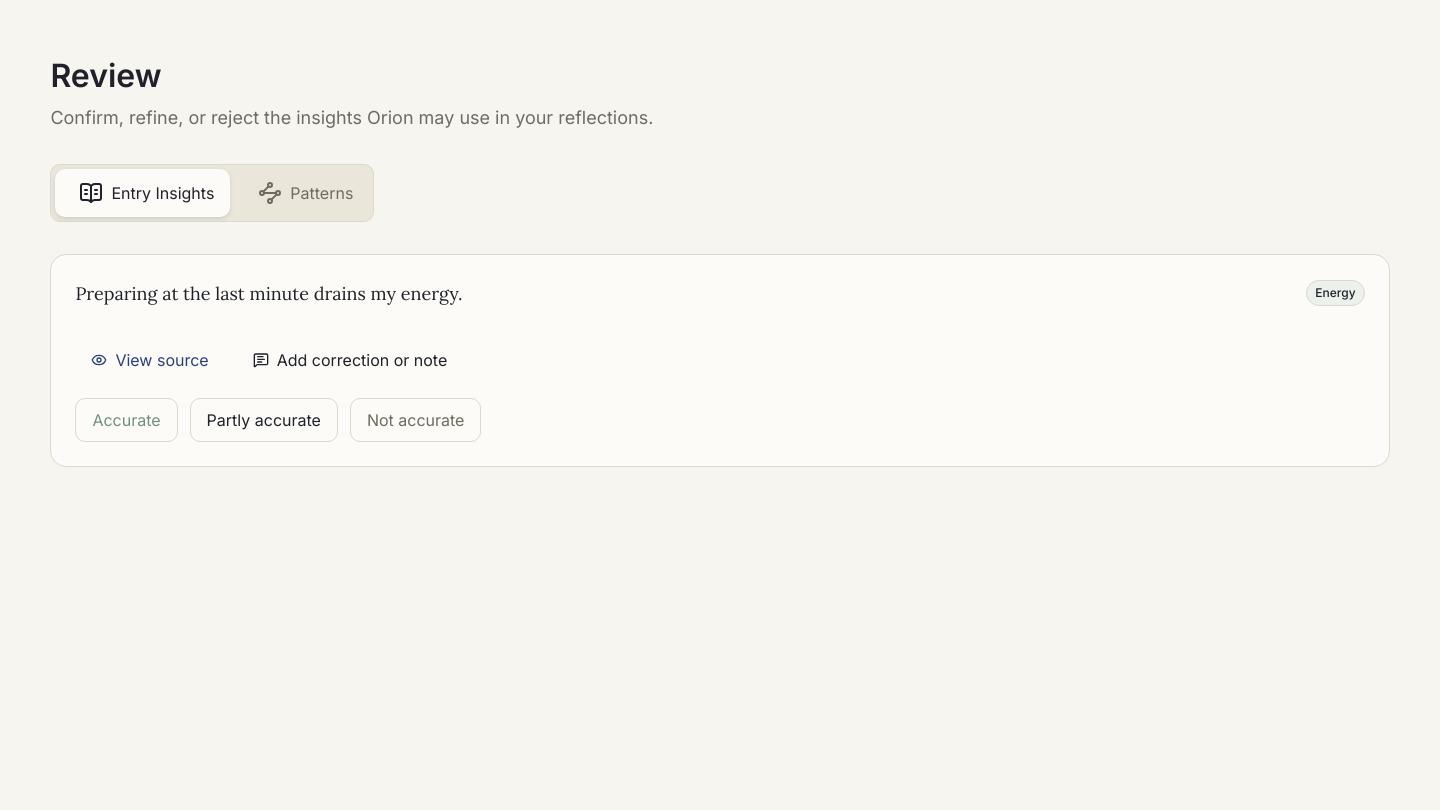
ReviewScreen › shows only the central loader while feedback refreshes the queue
The image size is (1440, 810).
Check: the text "Preparing at the last minute drains my energy." is shown, box [75, 282, 462, 305]
Click the button "Accurate".
click(126, 420)  # box [75, 398, 178, 442]
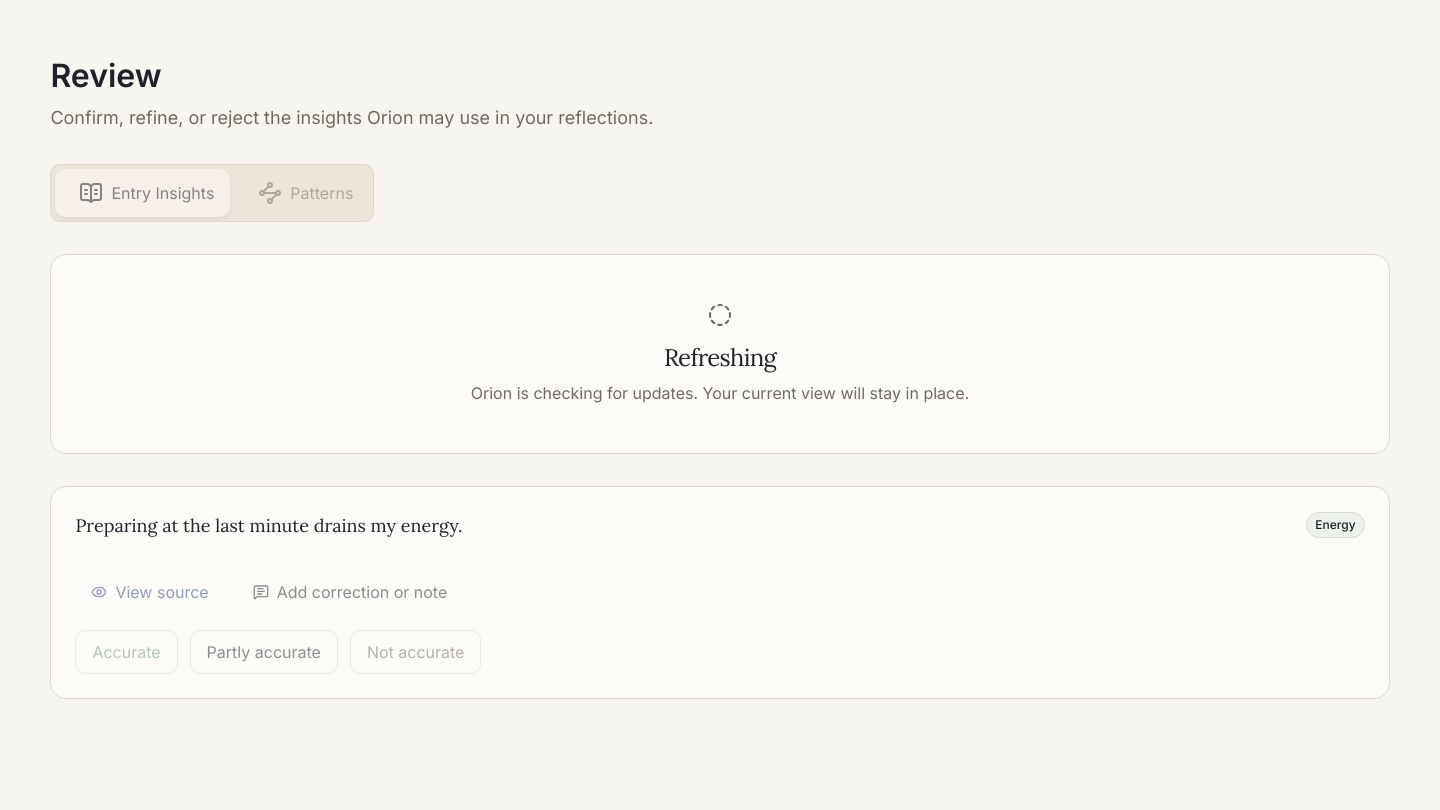
Check: the heading "Refreshing" is shown, box [664, 342, 776, 373]
Check: the number of icons with class "animate-spin" is 1, box [708, 303, 732, 327]
